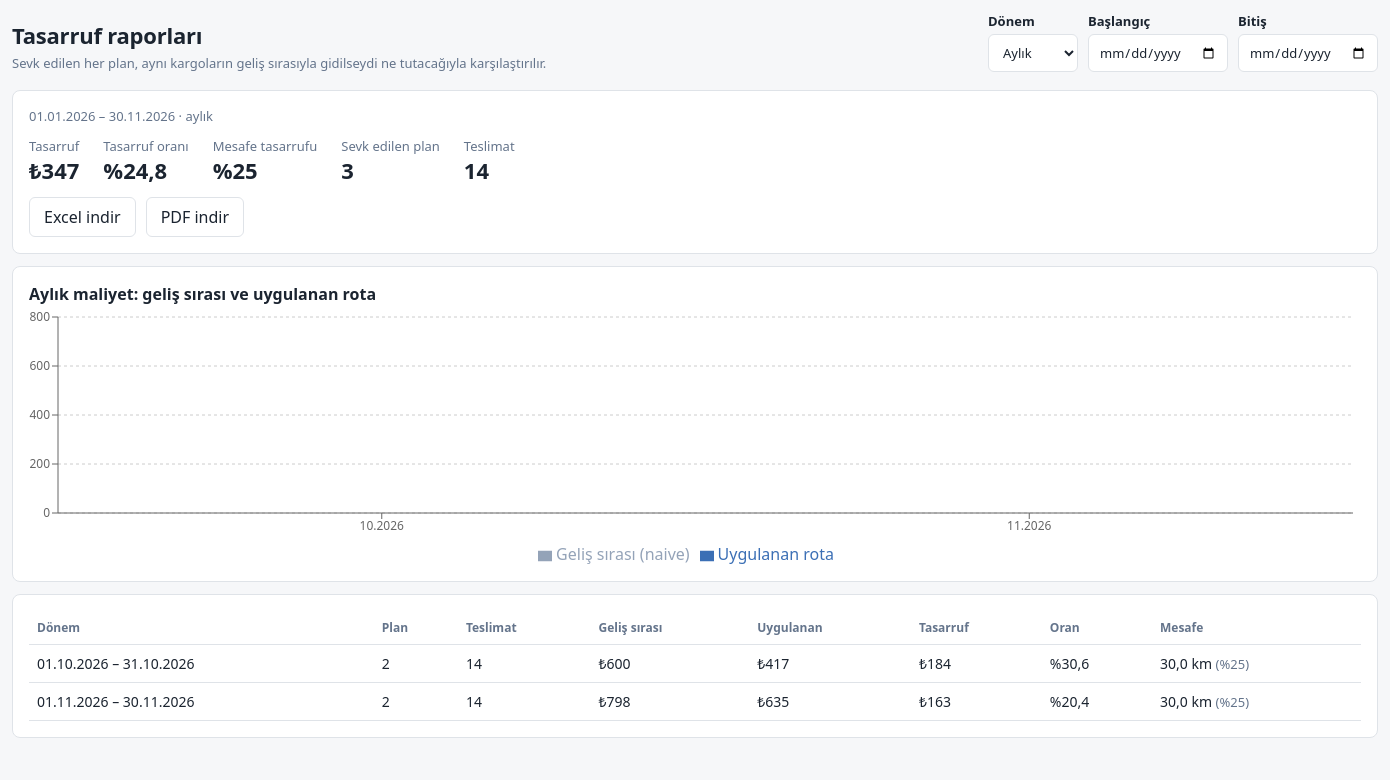
it: SavingsPage (F9) › should show the weighted savings, the period table and ask again when the period changes
Expected: the element named "Özet" shows "01.01.2026 – 30.11.2026", [12,90,1378,254]
Expected: the row that starts with "30,0 km" shows "01.10.2026 – 31.10.2026", [29,644,1361,682]
Select "Haftalık" in the dropdown labelled "Dönem" at {"x": 1033, "y": 53}, box [988,34,1078,72]
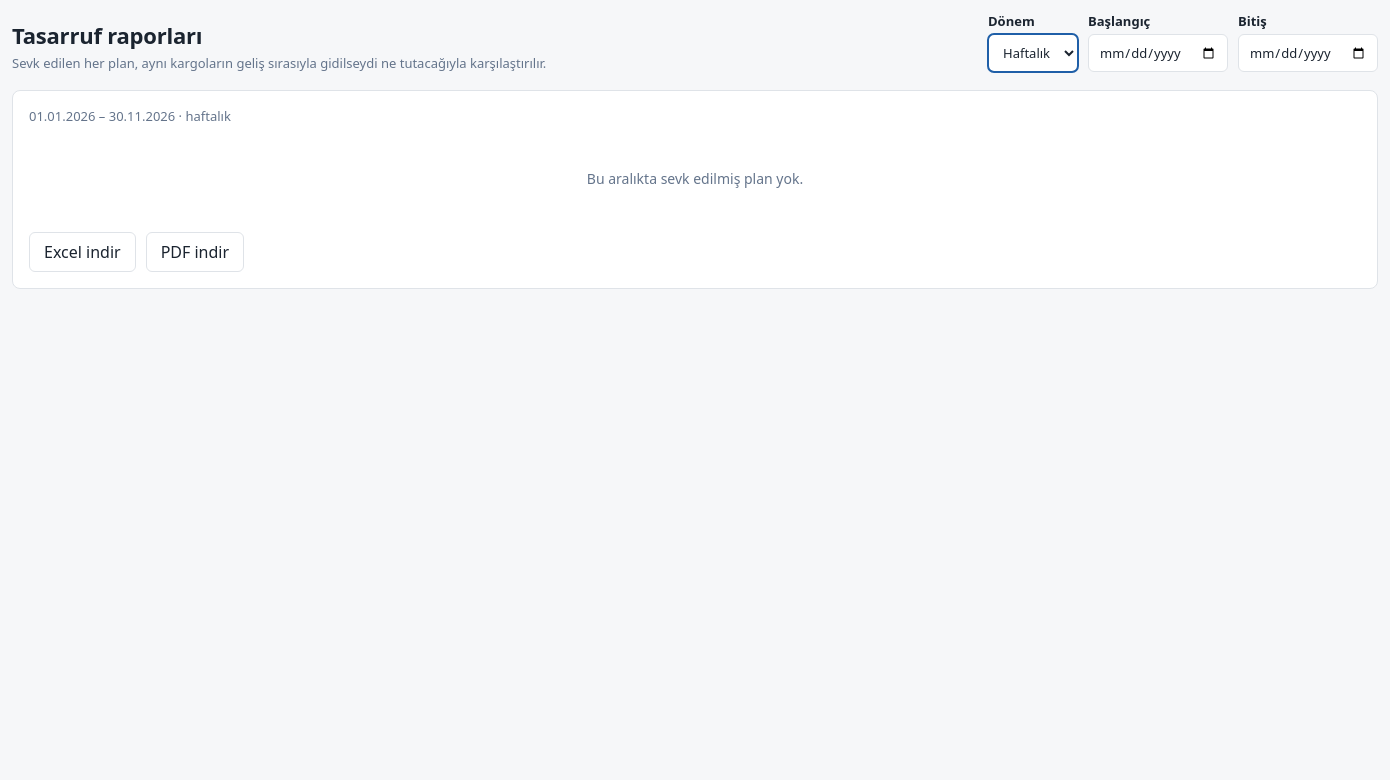
Expected: the text "Bu aralıkta sevk edilmiş plan yok." is shown, [587,169,803,188]
